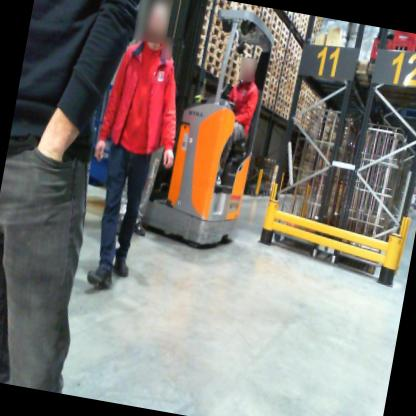forklift: (110, 0, 290, 270)
pallet: (220, 42, 244, 63), (207, 24, 232, 44), (219, 55, 244, 73), (202, 34, 226, 50), (218, 62, 237, 81), (203, 44, 223, 61), (207, 5, 231, 19), (214, 0, 237, 14), (200, 61, 220, 77), (223, 36, 243, 52), (228, 24, 244, 43), (211, 17, 231, 32), (276, 23, 290, 43), (268, 20, 282, 39), (238, 40, 252, 58), (235, 48, 251, 63), (265, 26, 280, 42), (257, 17, 272, 31), (232, 1, 251, 12), (252, 47, 267, 60), (258, 6, 274, 18), (286, 30, 298, 46), (201, 57, 220, 67), (247, 5, 264, 16), (271, 12, 283, 27), (262, 92, 277, 104), (277, 37, 289, 52), (281, 56, 292, 72), (220, 75, 237, 85), (192, 54, 204, 68), (195, 35, 206, 50), (258, 10, 270, 23), (289, 18, 300, 32), (275, 43, 286, 56), (273, 55, 283, 69), (201, 16, 210, 31), (268, 76, 280, 87), (269, 69, 280, 81), (270, 62, 282, 73), (285, 42, 296, 54), (296, 27, 306, 40), (267, 82, 278, 93), (202, 7, 212, 19), (204, 0, 214, 12), (275, 93, 285, 105), (288, 63, 298, 75), (275, 48, 284, 61), (281, 64, 291, 75), (274, 99, 283, 111), (196, 45, 204, 58), (278, 76, 288, 86), (282, 95, 292, 105), (200, 27, 209, 38), (264, 99, 273, 110), (266, 89, 277, 98), (298, 22, 307, 33), (286, 47, 294, 59), (295, 41, 303, 53), (284, 54, 293, 64), (285, 84, 294, 93), (280, 72, 288, 82), (281, 107, 291, 115), (287, 77, 295, 87), (289, 70, 297, 80), (272, 38, 279, 49), (261, 90, 268, 101), (263, 79, 269, 90), (260, 99, 266, 110), (284, 11, 292, 19), (277, 83, 285, 91), (277, 90, 285, 98), (284, 89, 292, 97), (310, 22, 318, 30), (267, 61, 273, 71), (265, 67, 271, 77), (294, 49, 301, 57), (309, 28, 317, 35), (312, 18, 320, 25), (291, 60, 297, 69), (293, 54, 299, 63), (281, 112, 288, 118), (282, 103, 290, 108), (274, 108, 280, 114), (301, 20, 308, 25), (302, 15, 307, 21), (270, 54, 273, 60)
